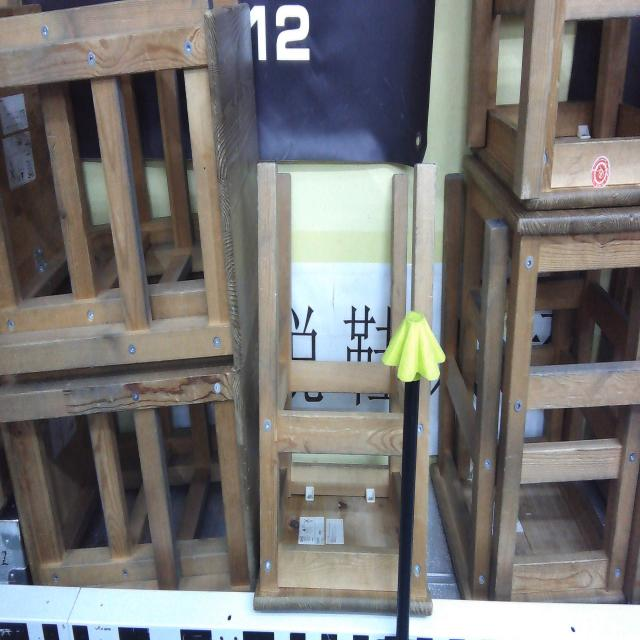Yellow-Stake-Head: (381, 310, 446, 382)
